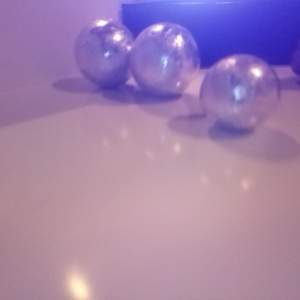alive_ball: (200, 52, 280, 132), (129, 22, 199, 96), (74, 18, 137, 86)
dead_ball: (288, 24, 300, 76)
